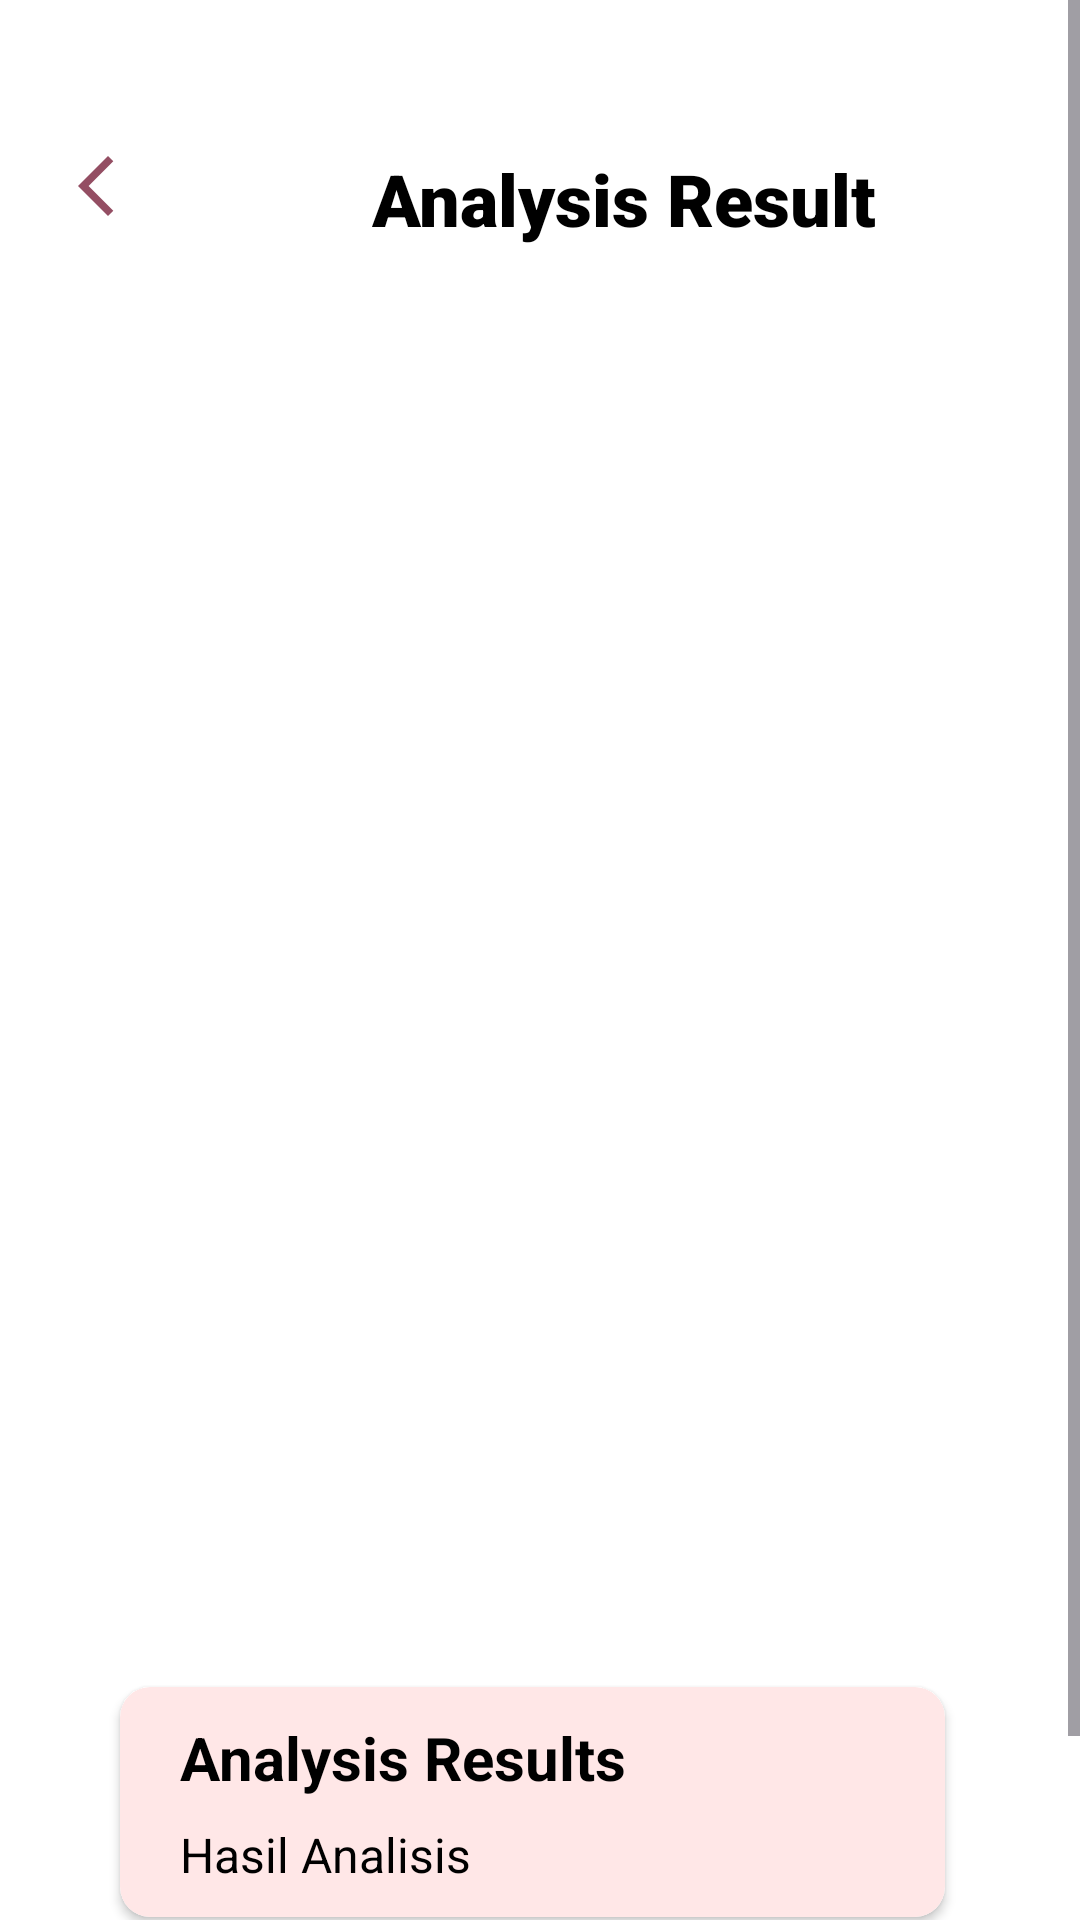

Icons on this 1080 × 1920 Android screen, each with the point to tap as (x,y):
arrow back: (95,186)
